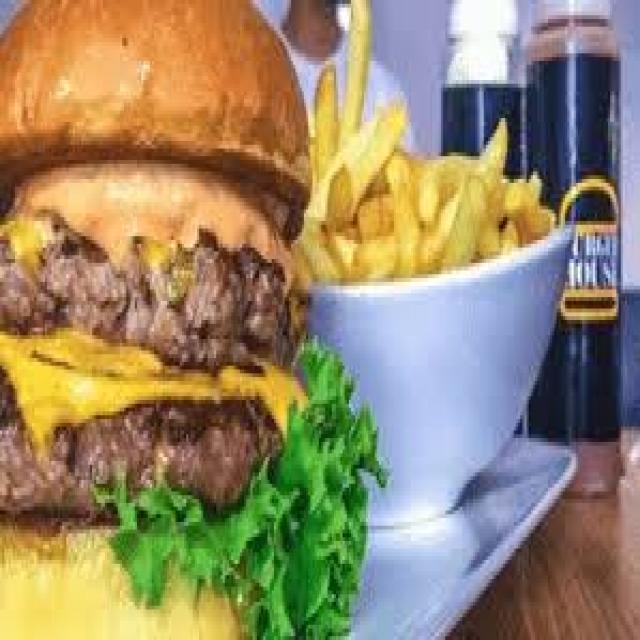Burger: (0, 0, 302, 640)
French Fries: (292, 0, 561, 327)
